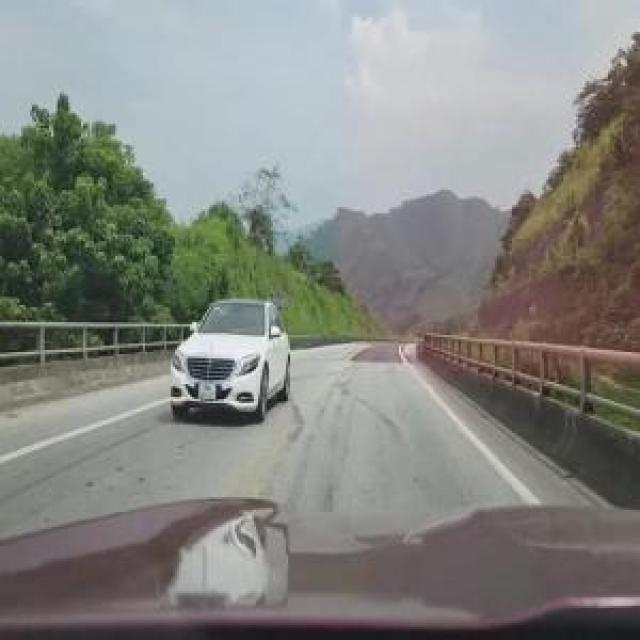clear-road: (0, 343, 605, 540)
